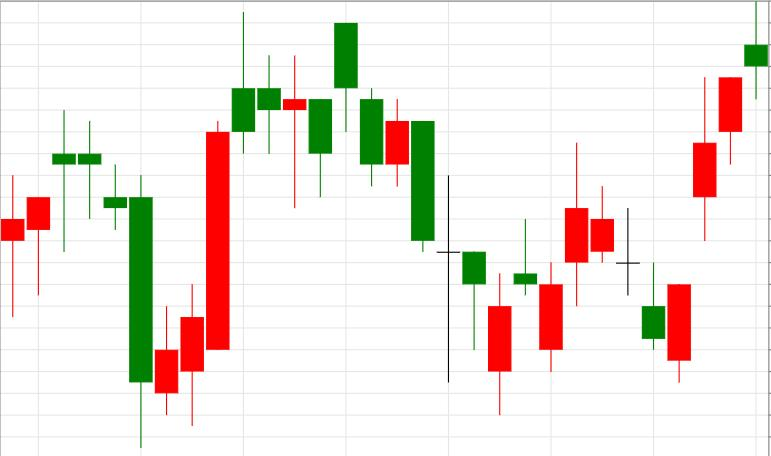hammer_rise: (334, 22, 486, 384)
inverse_hammer_rise: (564, 142, 665, 350)
shooting_star_fall: (154, 12, 255, 426)
